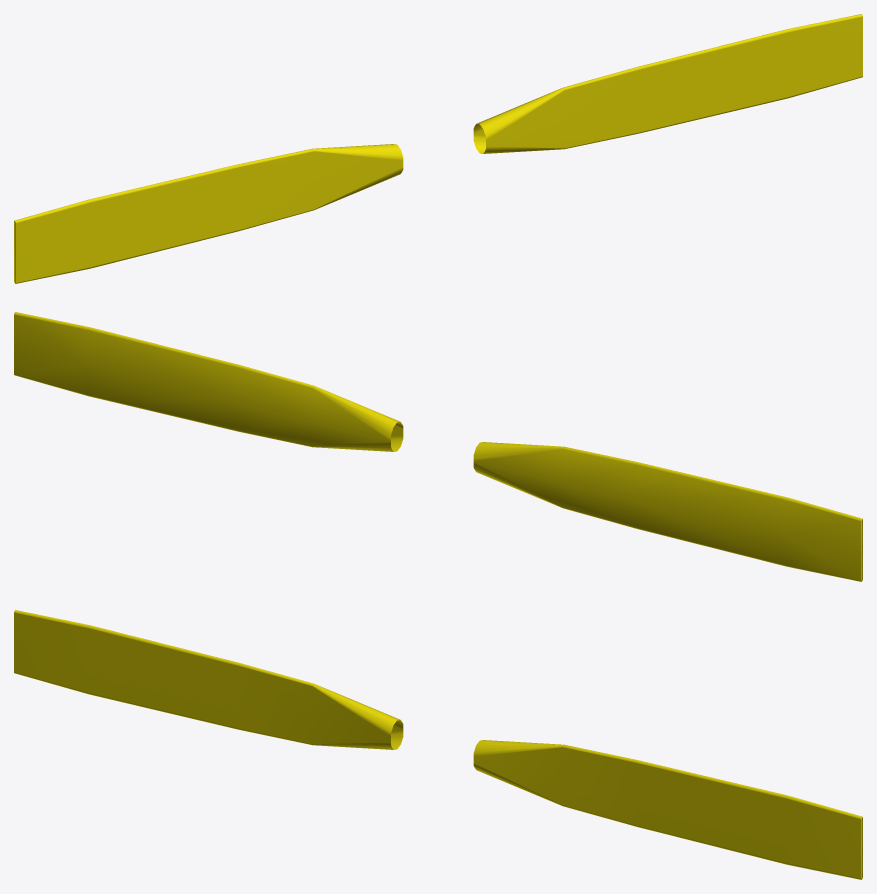
Rendered from Propeller_Lod0.fbx.
3 views of the same model, one above another, from view 1: azimuth 30°, elevation 25°; view 2: azimuth 150°, elevation 25°; view 3: azimuth 330°, elevation 25° (orthographic).
Parts seen in each view (by area): view 1: Propeller_Lod0; view 2: Propeller_Lod0; view 3: Propeller_Lod0.
Boxes of the visible parts, x1=… form: Propeller_Lod0: x1=14, y1=14, x2=862, y2=283; Propeller_Lod0: x1=14, y1=312, x2=862, y2=581; Propeller_Lod0: x1=14, y1=610, x2=862, y2=879.
Bounding box in the file's own units: 240 × 18.74 × 6.77.
